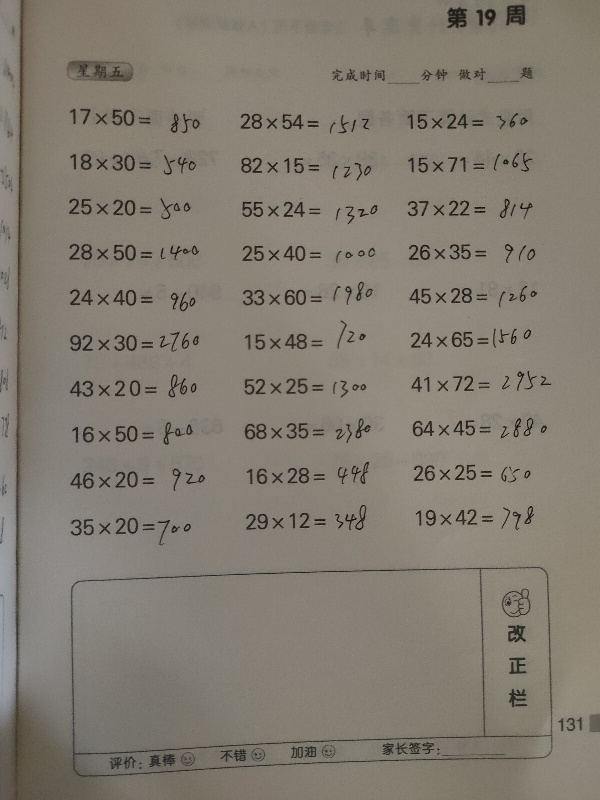equation: (65, 95, 207, 140), (236, 457, 387, 496), (236, 500, 380, 540), (233, 408, 384, 445), (235, 237, 387, 272), (61, 327, 211, 361), (65, 368, 201, 405), (69, 149, 211, 184), (404, 281, 548, 315), (240, 319, 373, 355), (59, 283, 201, 316), (405, 324, 544, 356), (239, 277, 384, 307), (67, 513, 194, 547), (67, 465, 209, 495), (237, 198, 380, 226), (408, 415, 550, 443), (407, 368, 554, 395), (411, 504, 537, 535), (69, 419, 197, 449), (66, 195, 195, 224), (237, 154, 375, 181), (405, 195, 537, 223), (406, 240, 540, 267), (236, 110, 372, 136), (404, 150, 536, 176), (65, 240, 202, 264), (240, 374, 369, 399), (410, 460, 534, 485), (405, 110, 532, 133)
